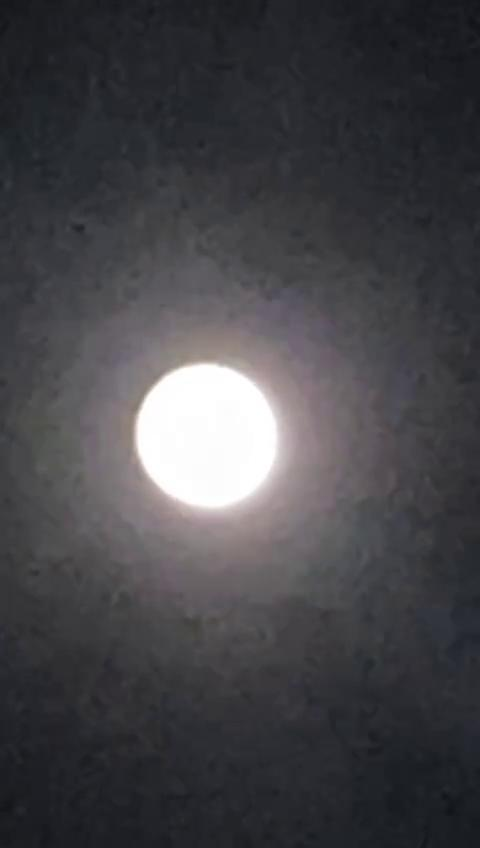moon: (88, 338, 255, 529)
